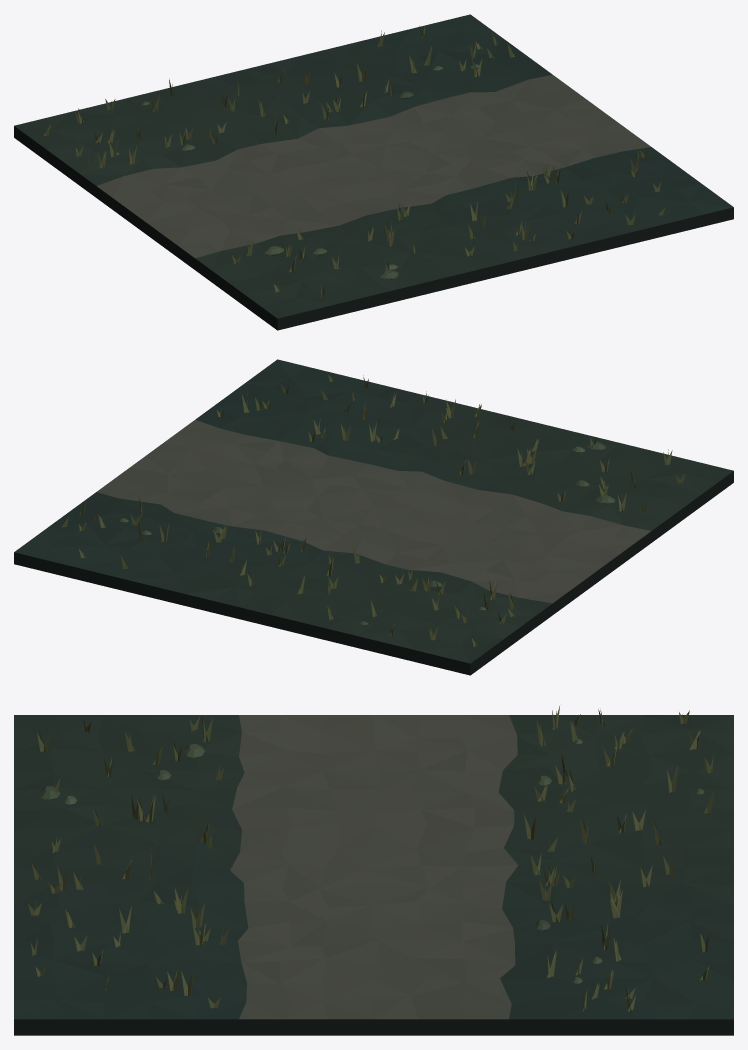
The model's file is CHUNK_TRANS_dark_canopy_forest__bell_mire__1.glb.
3 views of the same model, one above another, from view 1: azimuth 30°, elevation 25°; view 2: azimuth 150°, elevation 25°; view 3: azimuth 270°, elevation 25° (orthographic). The views are drawn at different scales.
Parts seen in each view (by area): view 1: CHUNK_TRANS_dark_canopy_forest__bell_mire__1; view 2: CHUNK_TRANS_dark_canopy_forest__bell_mire__1; view 3: CHUNK_TRANS_dark_canopy_forest__bell_mire__1.
Part boxes in pixels (x1,y1,x2,y2): CHUNK_TRANS_dark_canopy_forest__bell_mire__1: [14, 14, 733, 330]; CHUNK_TRANS_dark_canopy_forest__bell_mire__1: [14, 359, 733, 675]; CHUNK_TRANS_dark_canopy_forest__bell_mire__1: [14, 706, 733, 1035].
Size of the model in its own units: 8 by 0.5554 by 8.
